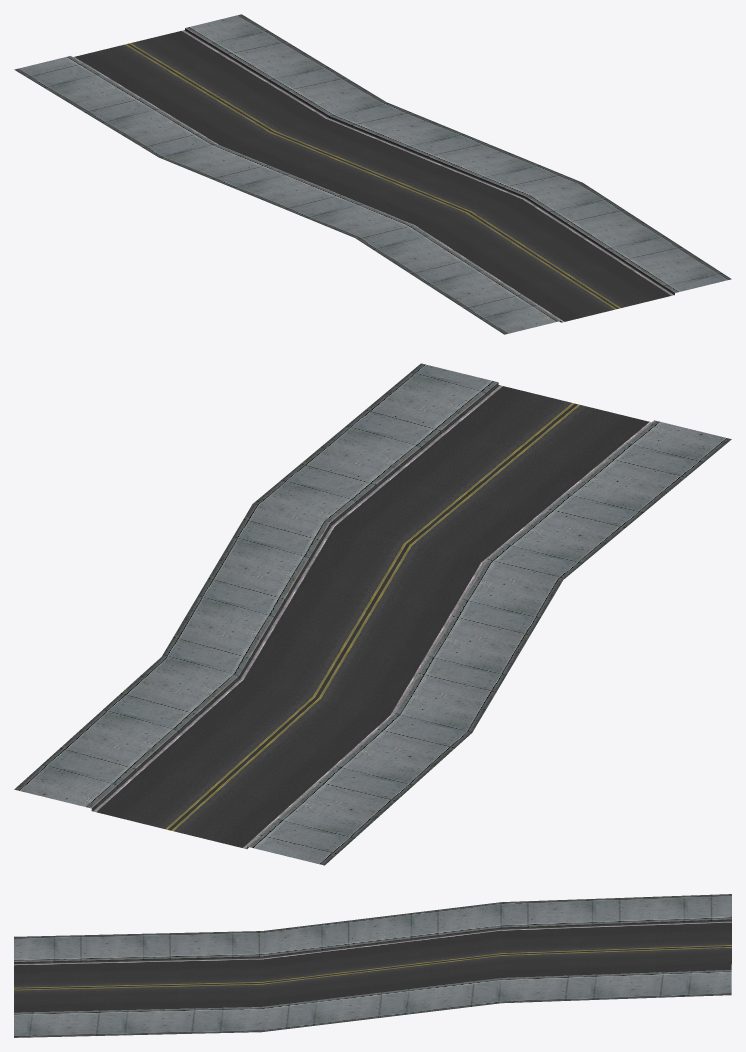
The model's file is laeroad28.obj.
3 renders of one model, top to bottom at view 1: azimuth 30°, elevation 25°; view 2: azimuth 150°, elevation 25°; view 3: azimuth 270°, elevation 25°, orthographic. The views are drawn at different scales.
Visible parts, largest first — view 1: laeroad28; view 2: laeroad28; view 3: laeroad28.
Boxes of the visible parts, x1,y1,x2,y2 form: laeroad28: [14, 14, 731, 334]; laeroad28: [14, 363, 731, 865]; laeroad28: [14, 894, 731, 1037].
Bounding box in the file's own units: 28.45 × 0.1715 × 60.
